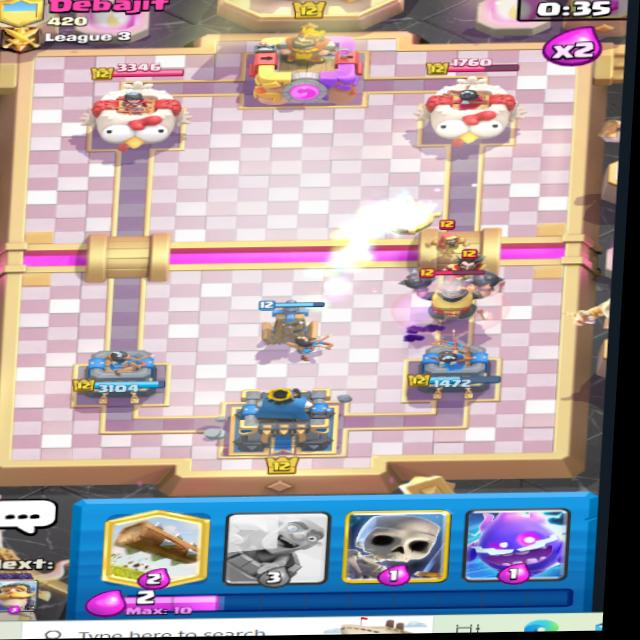electro-wizard: (433, 245, 513, 284)
mega-knight: (396, 258, 500, 332)
wizard: (423, 227, 469, 258)
